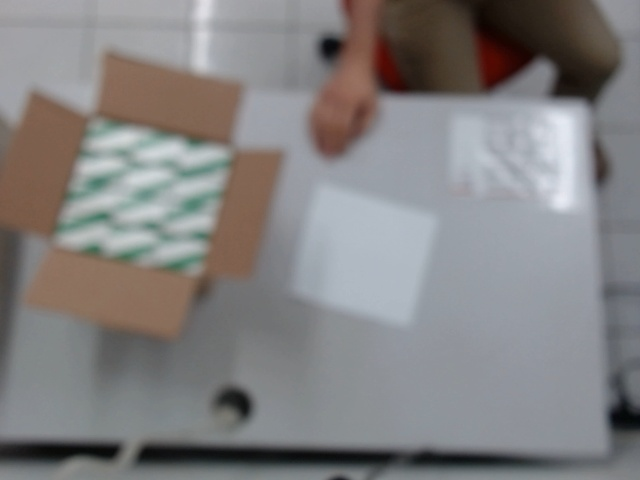caixa_principal: (49, 93, 251, 285)
